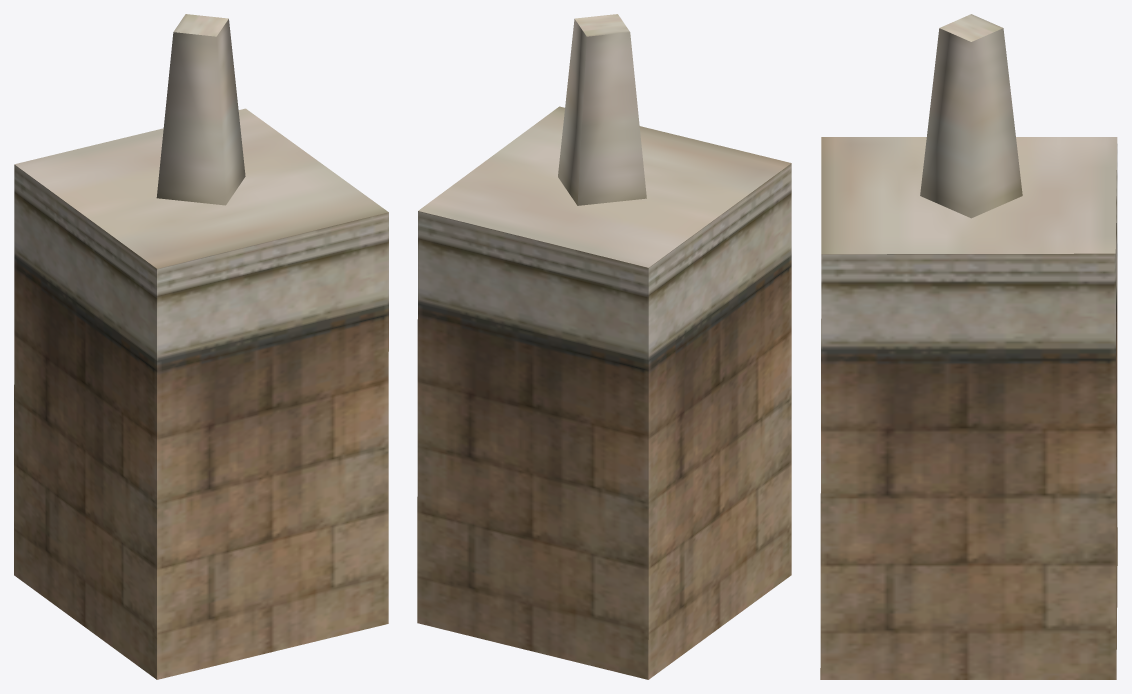
The model's file is thm_nboo_imprv_pillar_s03_l3.fbx.
3 views of the same model, side by side, from view 1: azimuth 30°, elevation 25°; view 2: azimuth 150°, elevation 25°; view 3: azimuth 270°, elevation 25° (orthographic). The views are drawn at different scales.
Parts seen in each view (by area): view 1: mesh_node; view 2: mesh_node; view 3: mesh_node.
Part boxes in pixels (<box>): mesh_node: <box>14,14,388,679</box>; mesh_node: <box>417,14,791,679</box>; mesh_node: <box>820,14,1117,679</box>.
Size of the model in its own units: 2.03 by 4.8 by 2.17.
1 material, 1 textured.
